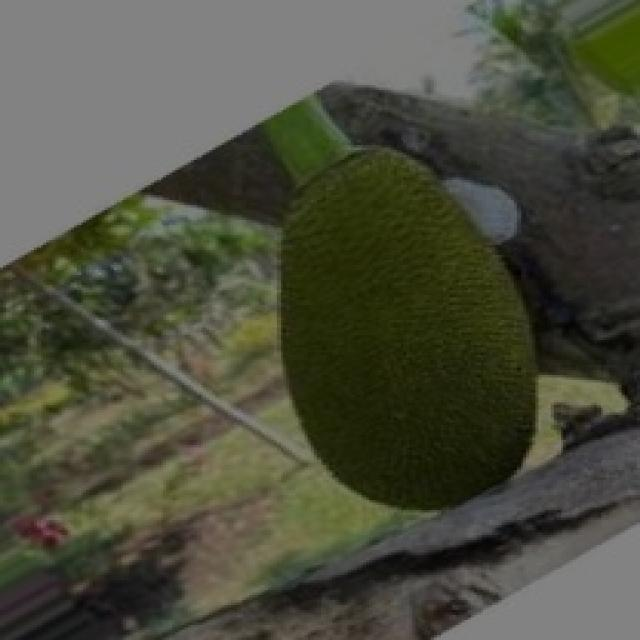Fruit: (234, 115, 578, 537)
